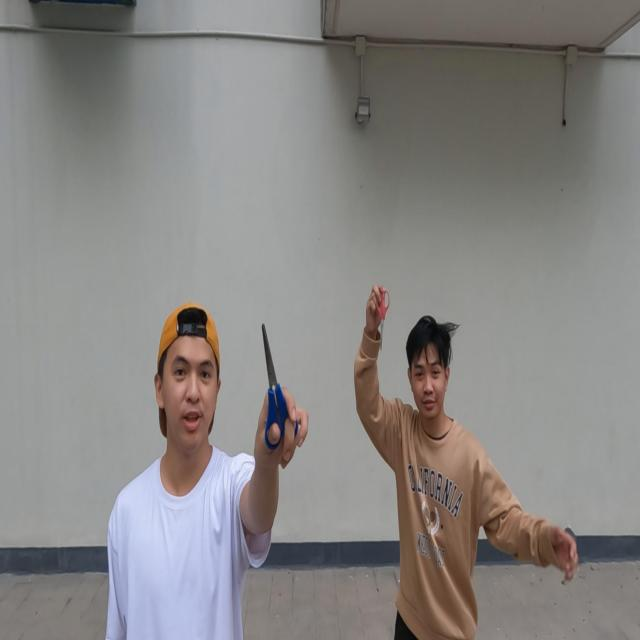scissor: (261, 324, 299, 449), (375, 288, 390, 352)
